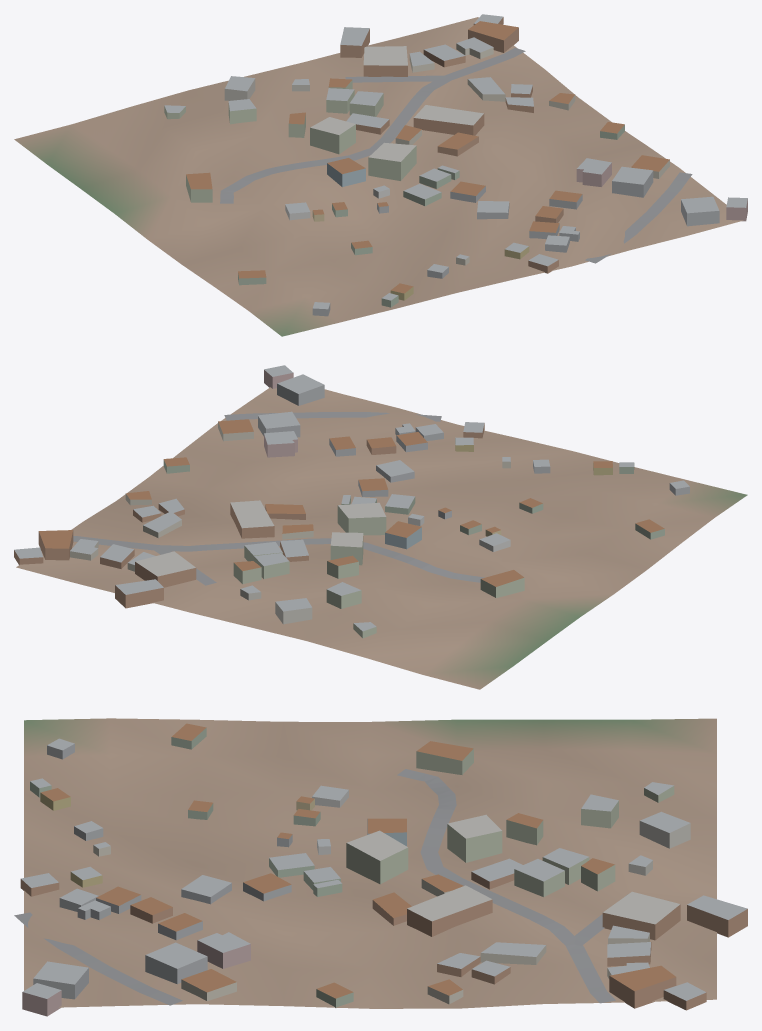
3 renders of one model, top to bottom at view 1: azimuth 30°, elevation 25°; view 2: azimuth 150°, elevation 25°; view 3: azimuth 270°, elevation 25°, orthographic. The views are drawn at different scales.
Visible parts, largest first — view 1: Lo; view 2: Lo; view 3: Lo.
Boxes of the visible parts, x1,y1,x2,y2 form: Lo: (14, 14, 747, 336); Lo: (14, 365, 747, 689); Lo: (14, 718, 747, 1016).
Size of the model in its own units: 264 by 15.55 by 271.
